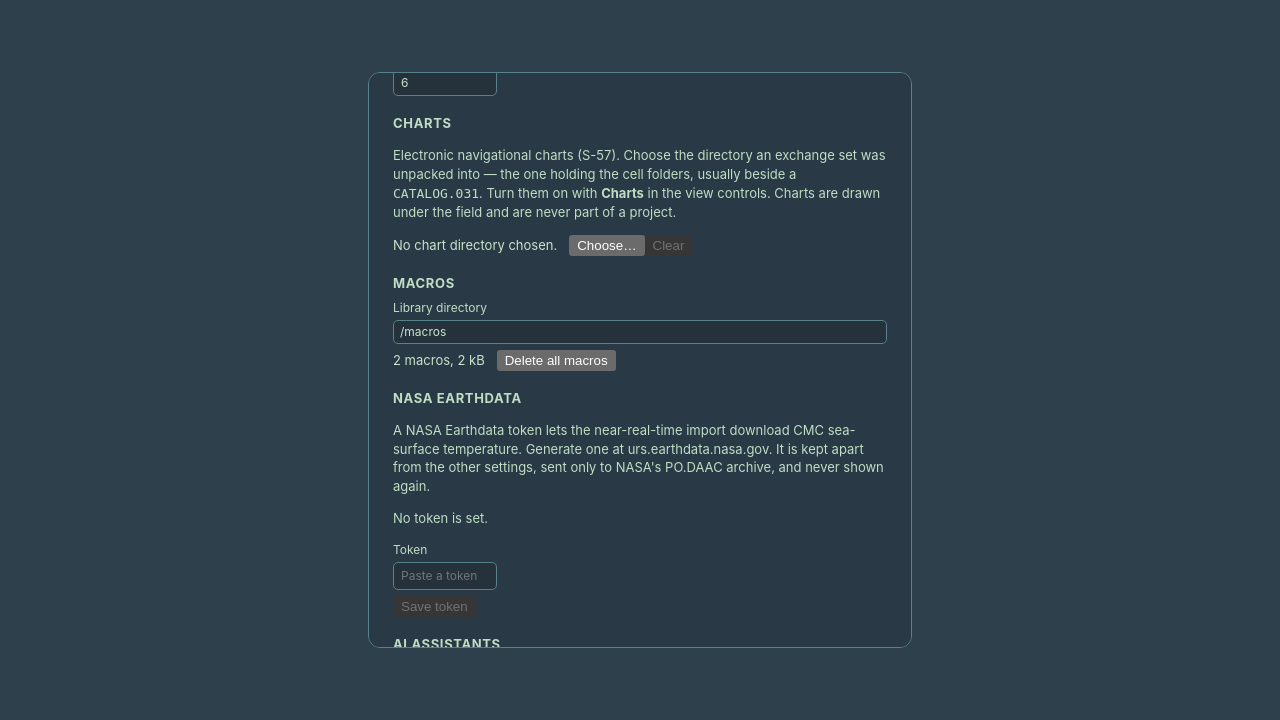
Test: deleting the macro library › asks before deleting, and deletes nothing until it is answered
(page scrolled)
Click the button "Delete all macros" at (556,360), box left=497, top=350, right=616, bottom=371
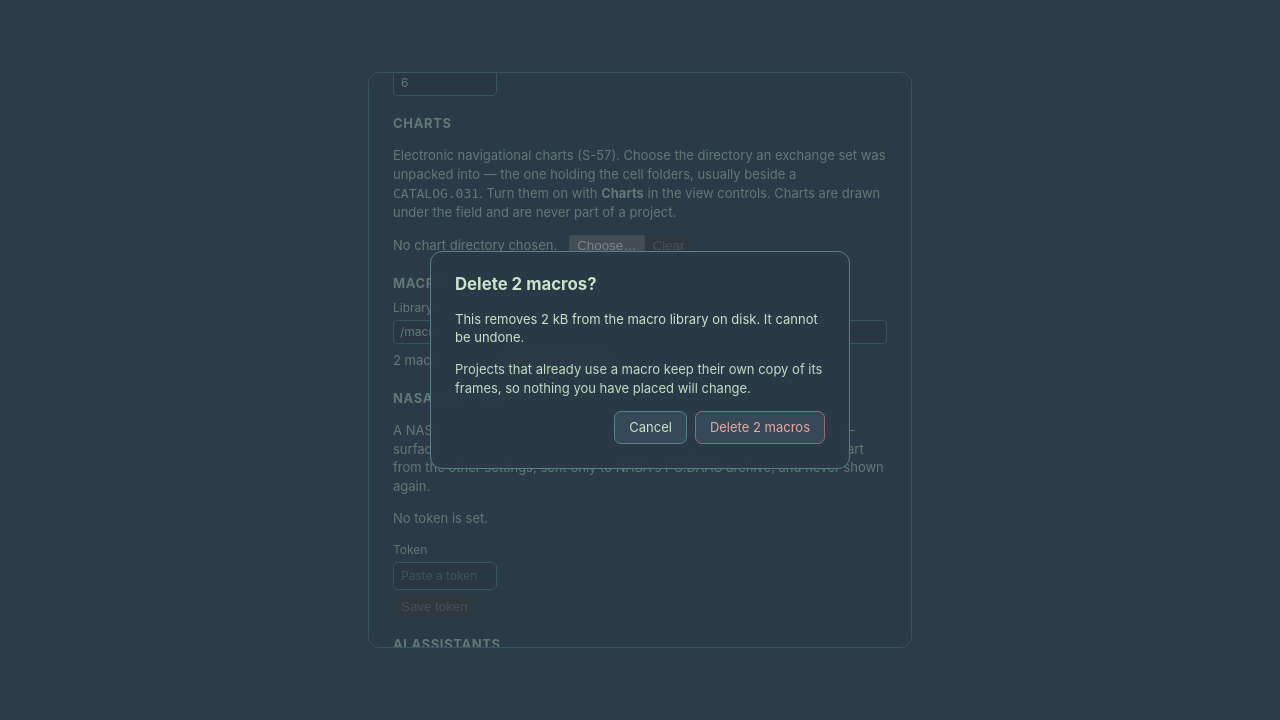
Now the dialog named "Delete all macros" shows "Delete 2 macros?", box left=455, top=274, right=597, bottom=294
Now the dialog named "Delete all macros" shows "2 kB", box left=455, top=311, right=818, bottom=345
